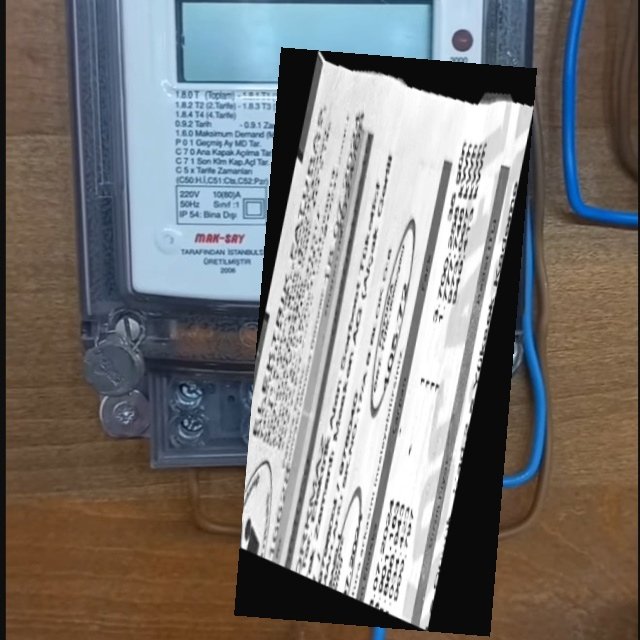electricity-bill: (233, 47, 536, 637)
